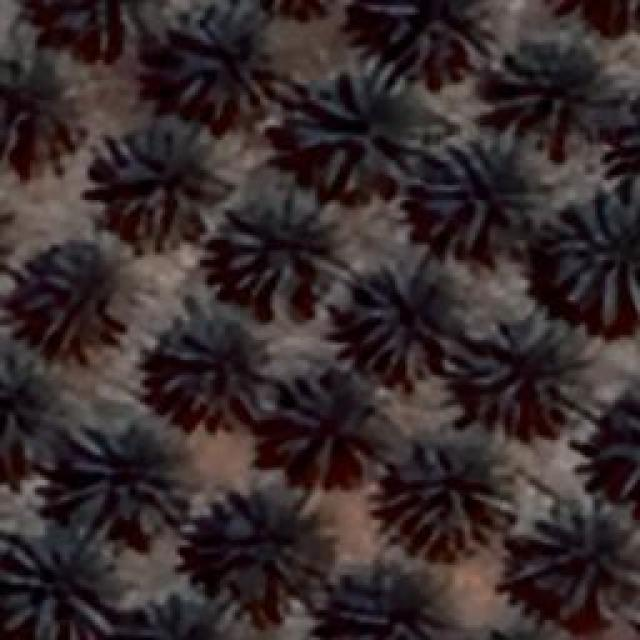PalmTree: (70, 106, 605, 451), (92, 15, 594, 106), (374, 428, 518, 562), (454, 307, 598, 435), (15, 230, 160, 352), (295, 62, 430, 192), (150, 295, 280, 430), (410, 130, 548, 252), (59, 412, 192, 538), (347, 255, 475, 383), (103, 115, 230, 243), (270, 362, 392, 490), (218, 180, 348, 298), (512, 494, 638, 608), (165, 5, 280, 120), (0, 528, 118, 638), (544, 190, 638, 328), (490, 30, 610, 135), (210, 478, 308, 592), (0, 58, 85, 168), (367, 0, 495, 65), (345, 567, 455, 640), (14, 0, 142, 62), (0, 351, 59, 483), (132, 587, 240, 635), (614, 84, 640, 198), (446, 622, 574, 640), (451, 624, 577, 640), (622, 84, 640, 192), (234, 0, 345, 16)
